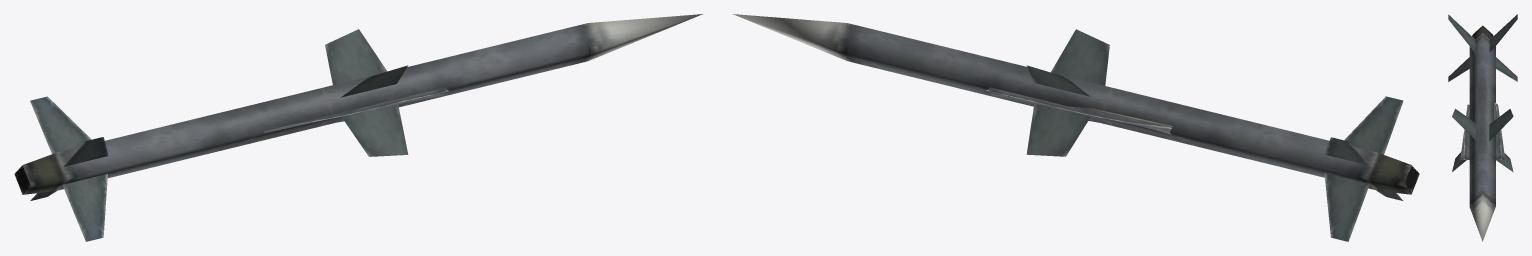
The model's file is projectile_sa6_missile_desert_mp_LOD2.obj.
3 views of the same model, side by side, from view 1: azimuth 30°, elevation 25°; view 2: azimuth 150°, elevation 25°; view 3: azimuth 270°, elevation 25° (orthographic). The views are drawn at different scales.
Visible parts, largest first — view 1: mtl_sa6_missile_desert; view 2: mtl_sa6_missile_desert; view 3: mtl_sa6_missile_desert.
Boxes of the visible parts, box(x1,y1,x2,y2) form: mtl_sa6_missile_desert: box(14, 14, 702, 241); mtl_sa6_missile_desert: box(733, 14, 1419, 241); mtl_sa6_missile_desert: box(1448, 14, 1517, 241).
Size of the model in its own units: 1244 by 176 by 176.
